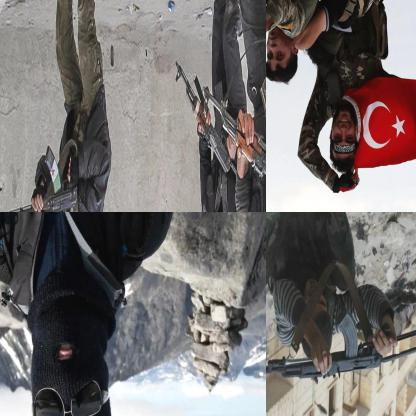rifle: (266, 307, 415, 390), (203, 64, 265, 208), (172, 53, 237, 186), (1, 146, 83, 211)
